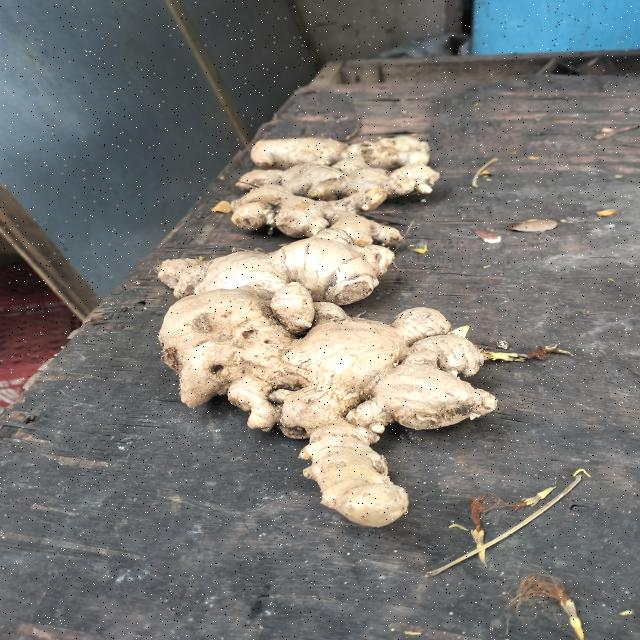ginger: (138, 292, 532, 516), (158, 233, 396, 308), (245, 126, 463, 168), (185, 192, 376, 238), (249, 167, 434, 199)
